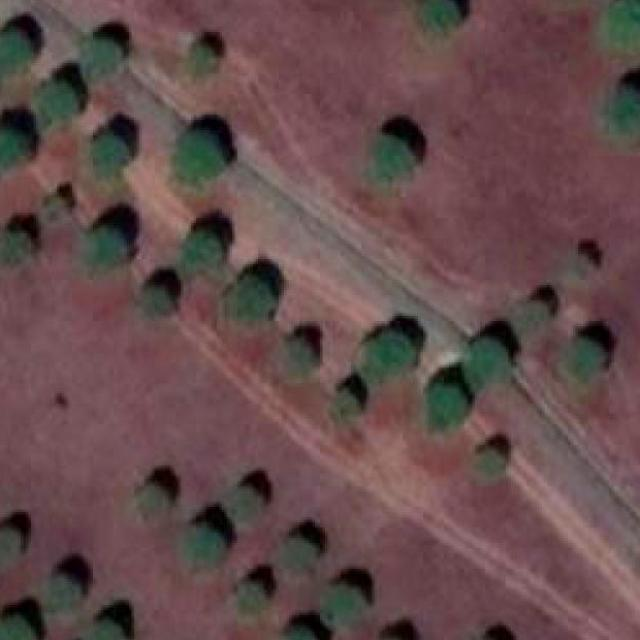Tree: (169, 127, 224, 187), (462, 340, 518, 394), (361, 329, 418, 376), (224, 277, 276, 326), (319, 582, 363, 634), (88, 223, 134, 272), (599, 0, 640, 54), (425, 380, 470, 429), (183, 522, 227, 569), (88, 130, 129, 180), (368, 138, 413, 183), (38, 78, 78, 125), (183, 231, 224, 276), (513, 298, 552, 345), (82, 37, 124, 79), (423, 0, 467, 40), (279, 336, 318, 381), (276, 533, 314, 579), (611, 86, 640, 144), (0, 30, 36, 76), (227, 486, 263, 528), (570, 340, 604, 384), (44, 569, 78, 613), (234, 582, 270, 618), (0, 232, 36, 268), (188, 46, 222, 80), (475, 445, 506, 481), (140, 484, 170, 520), (0, 130, 26, 171), (142, 285, 172, 319), (332, 388, 362, 422), (0, 526, 28, 562), (0, 615, 36, 640), (91, 617, 127, 640), (42, 197, 72, 221), (283, 625, 328, 640), (578, 252, 599, 278)
